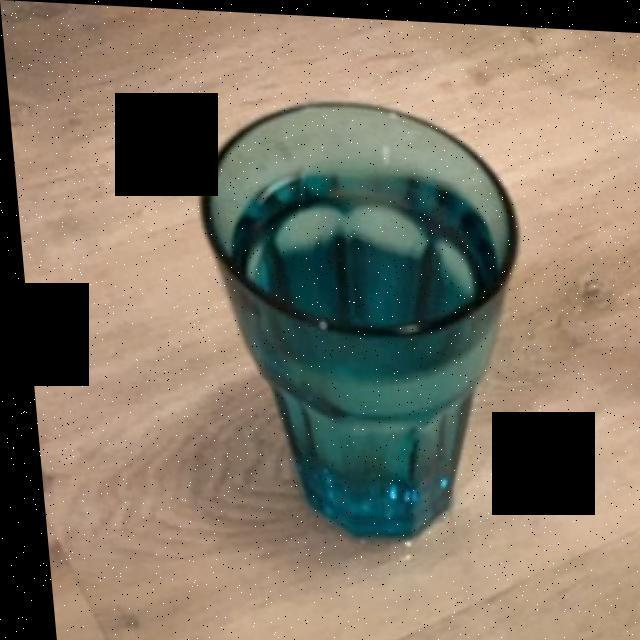water: (224, 161, 501, 519)
